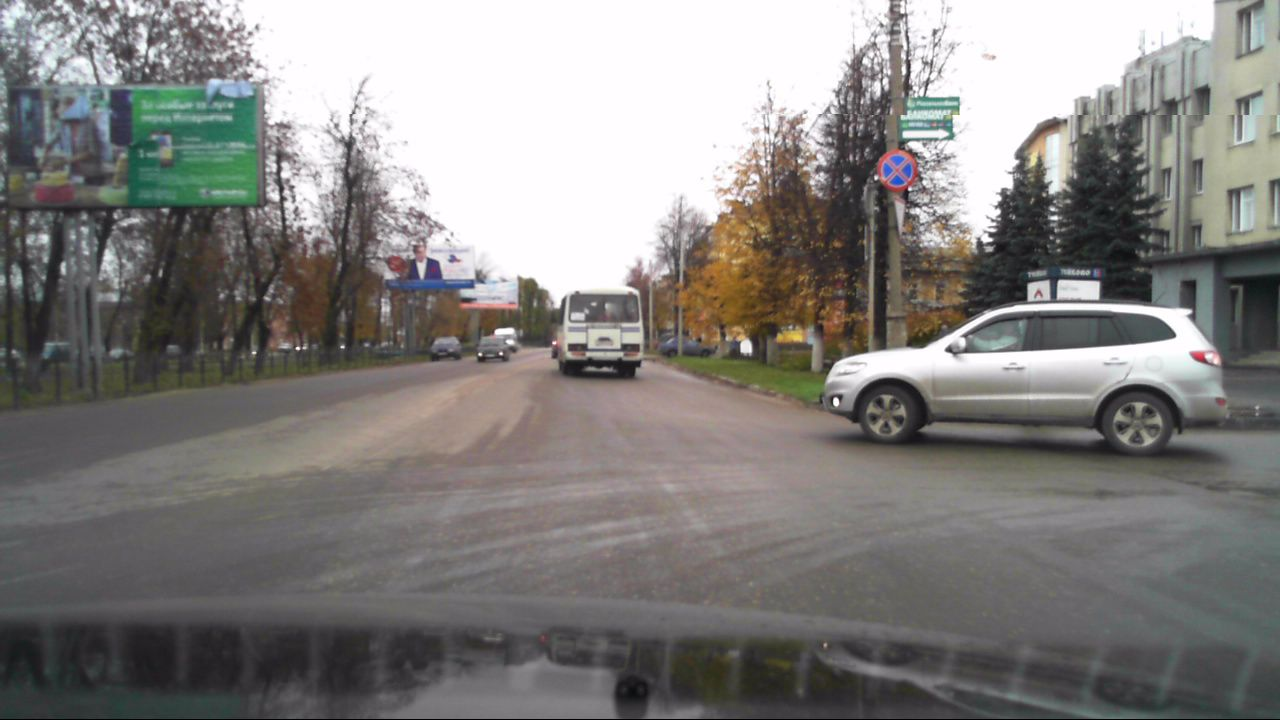No Parking: (877, 149, 916, 192)
